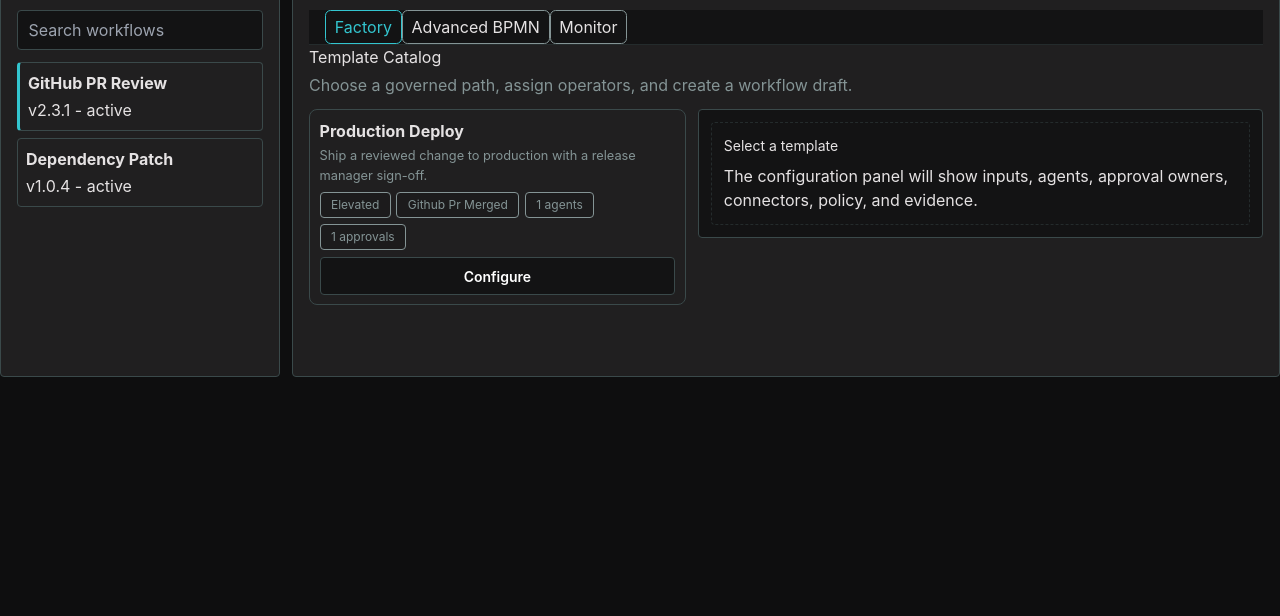
Test: WorkflowDesigner integration › configures a template and creates a draft workflow
This screenshot has width=1280, height=616.
Click the button with aria-label "Configure Production Deploy": (497, 276) top-left (320, 258), bottom-right (675, 295)
(page scrolled)
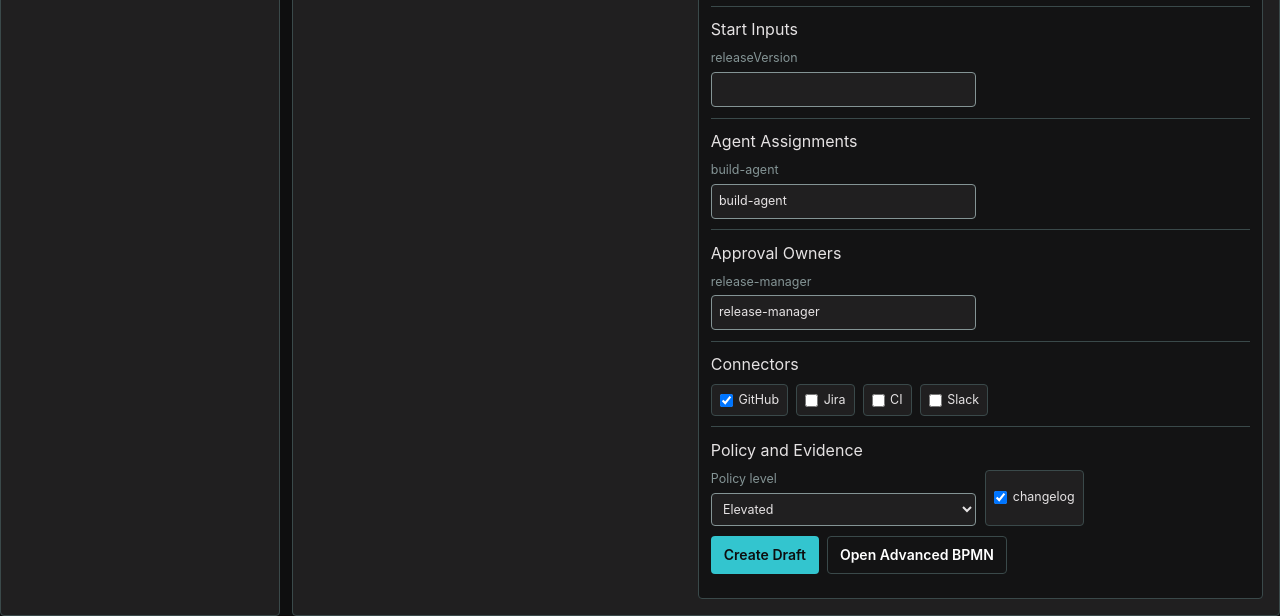
Click the button "Create Draft": (765, 555) top-left (711, 536), bottom-right (819, 574)
(page scrolled)
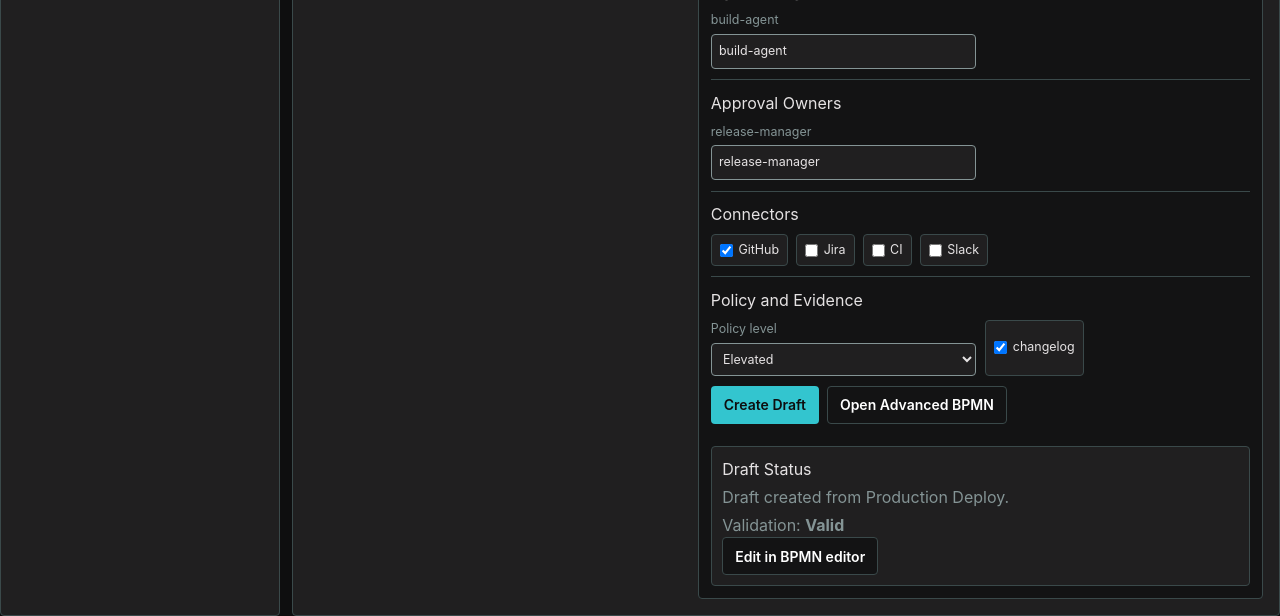
Now the text "Draft created from Production Deploy." is shown, box top-left (722, 487), bottom-right (1009, 507)
Now the button "Edit in BPMN editor" is shown, box top-left (722, 537), bottom-right (878, 575)
